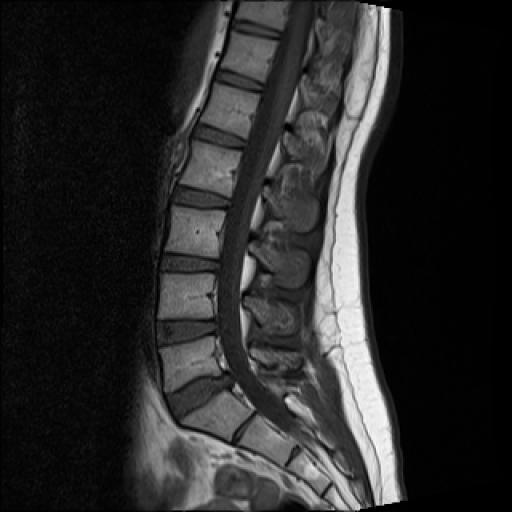L1: (200, 82, 260, 138)
L2: (179, 140, 241, 198)
L3: (164, 205, 225, 258)
L4: (158, 274, 215, 320)
L5: (159, 336, 222, 392)
S1: (181, 390, 252, 442)
